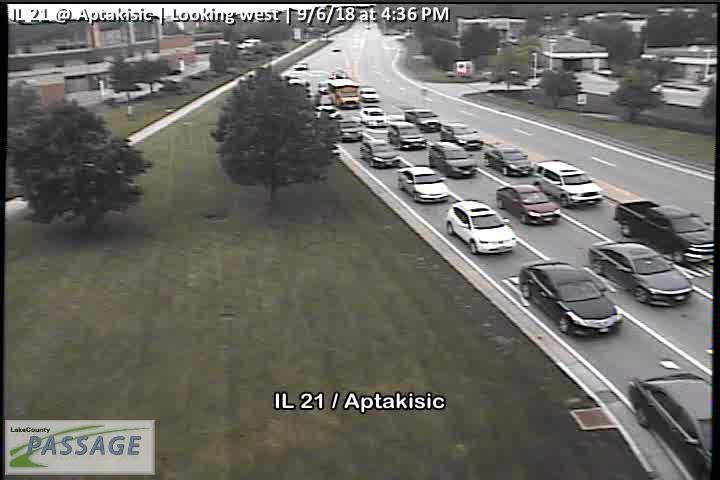SUV: (531, 161, 606, 206), (427, 141, 477, 177), (442, 122, 480, 147), (389, 122, 424, 146), (402, 109, 441, 130)
Sedan: (626, 370, 713, 477), (518, 261, 621, 336), (587, 239, 692, 306), (444, 200, 516, 253), (495, 183, 560, 224), (397, 165, 448, 203), (484, 145, 530, 174), (359, 140, 400, 168), (333, 119, 363, 142), (359, 86, 380, 101)
Truck: (614, 199, 714, 266), (327, 79, 359, 107)
